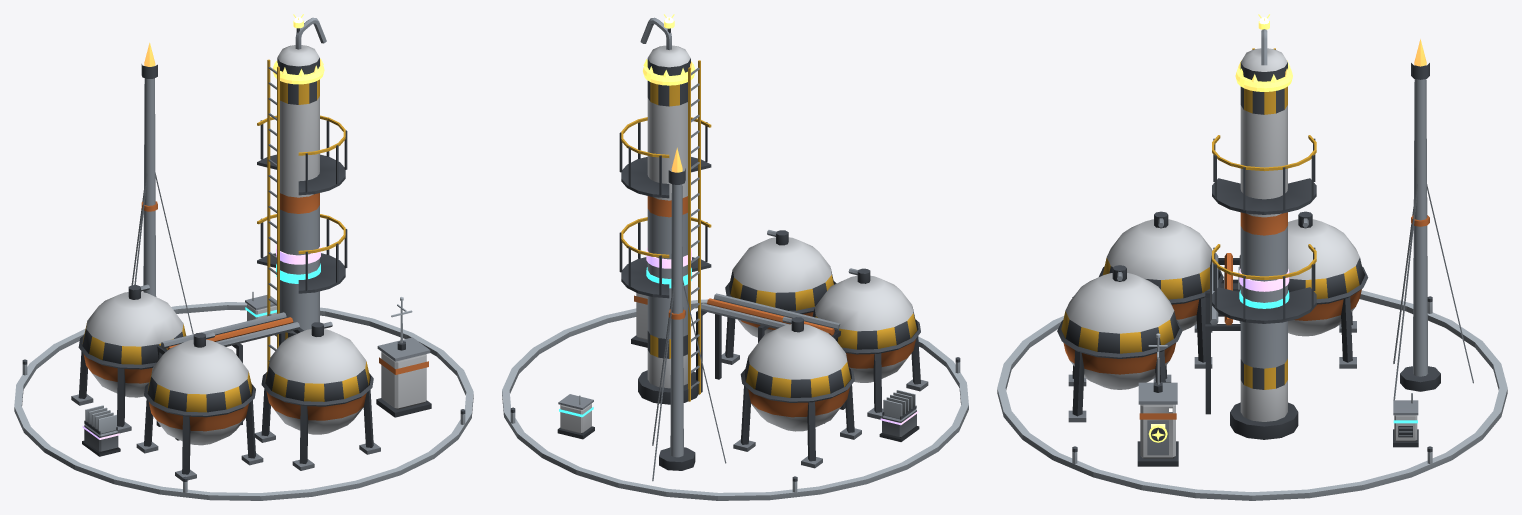
The model's file is fuel_refinery_l.glb.
3 views of the same model, side by side, from view 1: azimuth 30°, elevation 25°; view 2: azimuth 150°, elevation 25°; view 3: azimuth 270°, elevation 25° (orthographic). The views are drawn at different scales.
Parts seen in each view (by area): view 1: Base, L2, L4, L3, L5; view 2: Base, L2, L4, L3, L5; view 3: Base, L2, L3, L5, L4.
Part boxes in pixels (box(x1,y1,x2,y2)): Base: box(71, 17, 431, 481); L2: box(14, 297, 473, 500); L4: box(82, 244, 320, 456); L3: box(245, 263, 320, 320); L5: box(273, 14, 324, 84); Base: box(619, 17, 928, 481); L2: box(502, 299, 968, 500); L4: box(646, 247, 919, 441); L3: box(557, 267, 691, 439); L5: box(643, 14, 695, 85); Base: box(1057, 29, 1473, 466); L2: box(997, 290, 1507, 500); L3: box(1239, 290, 1418, 447); L5: box(1148, 14, 1292, 442); L4: box(1218, 267, 1289, 316).
Bounding box in the file's own units: 8.66 × 7.68 × 8.66.
